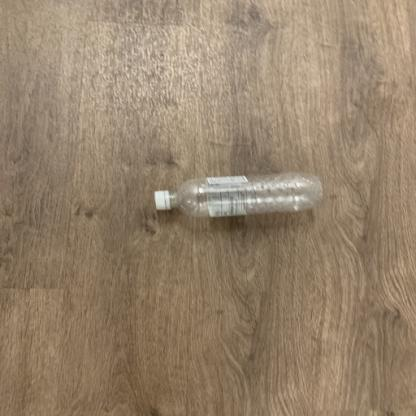trash: (149, 174, 323, 218)
